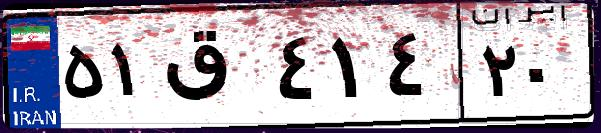0: (525, 38, 570, 115)
1: (330, 28, 385, 110), (110, 28, 158, 98)
2: (475, 38, 525, 113)
4: (270, 28, 330, 110), (385, 28, 445, 110)
5: (57, 26, 110, 100)
ق: (158, 20, 270, 120)
